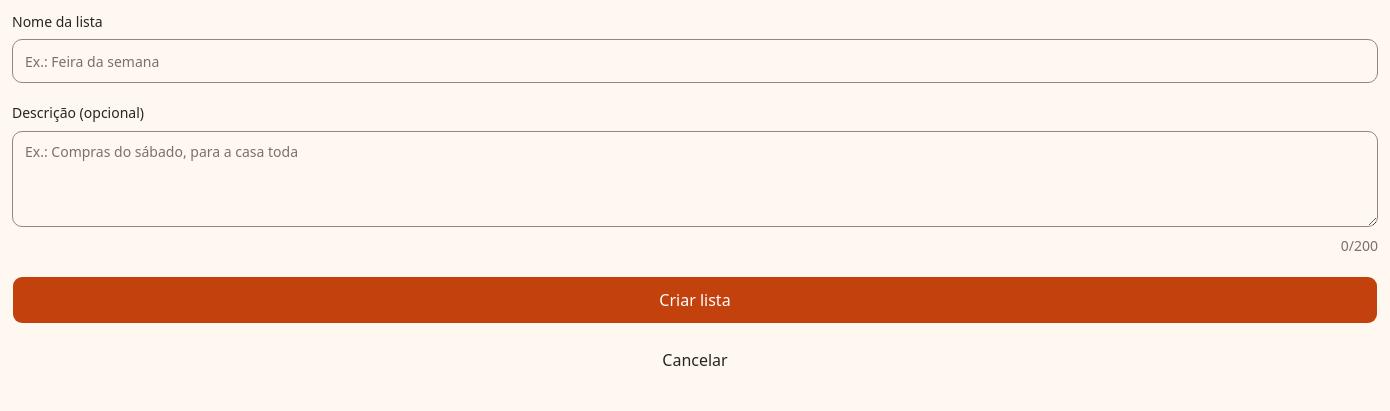
Test: NewListForm › marks the title when the name is already taken
Step 1. Type "Feira" into the field labelled "Nome da lista" → (695,61), box [12, 39, 1378, 83]
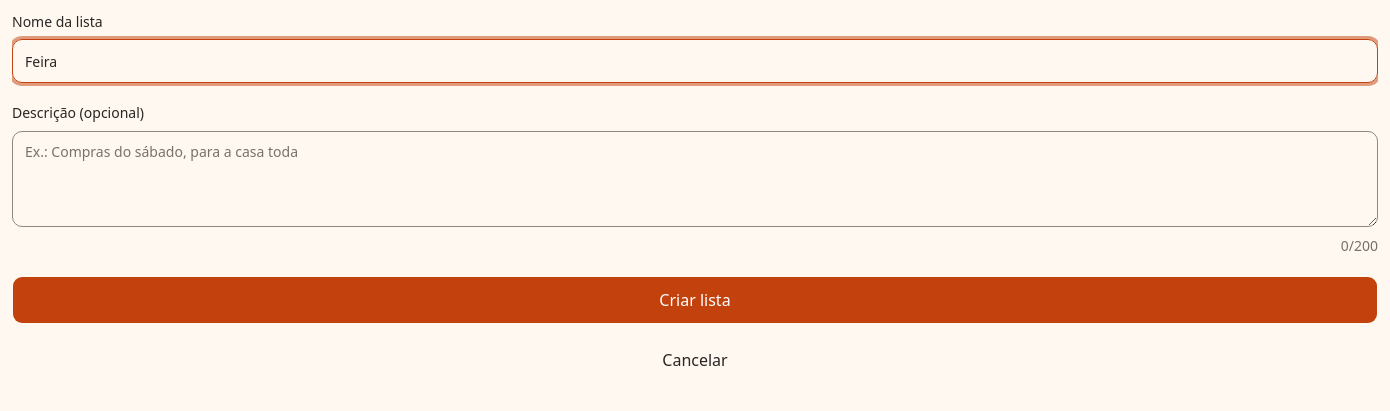
Step 2. Click the button "Criar lista" → (695,300), box [12, 276, 1378, 324]
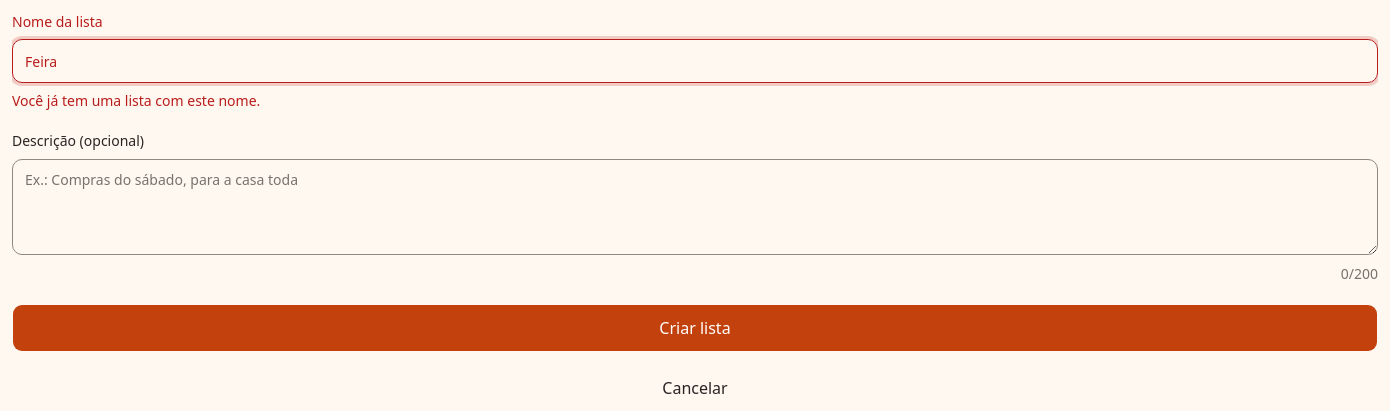
Expected: the button "Criar lista" is enabled, [12, 304, 1378, 352]
Expected: the text "Você já tem uma lista com este nome." is shown, [12, 91, 260, 110]
